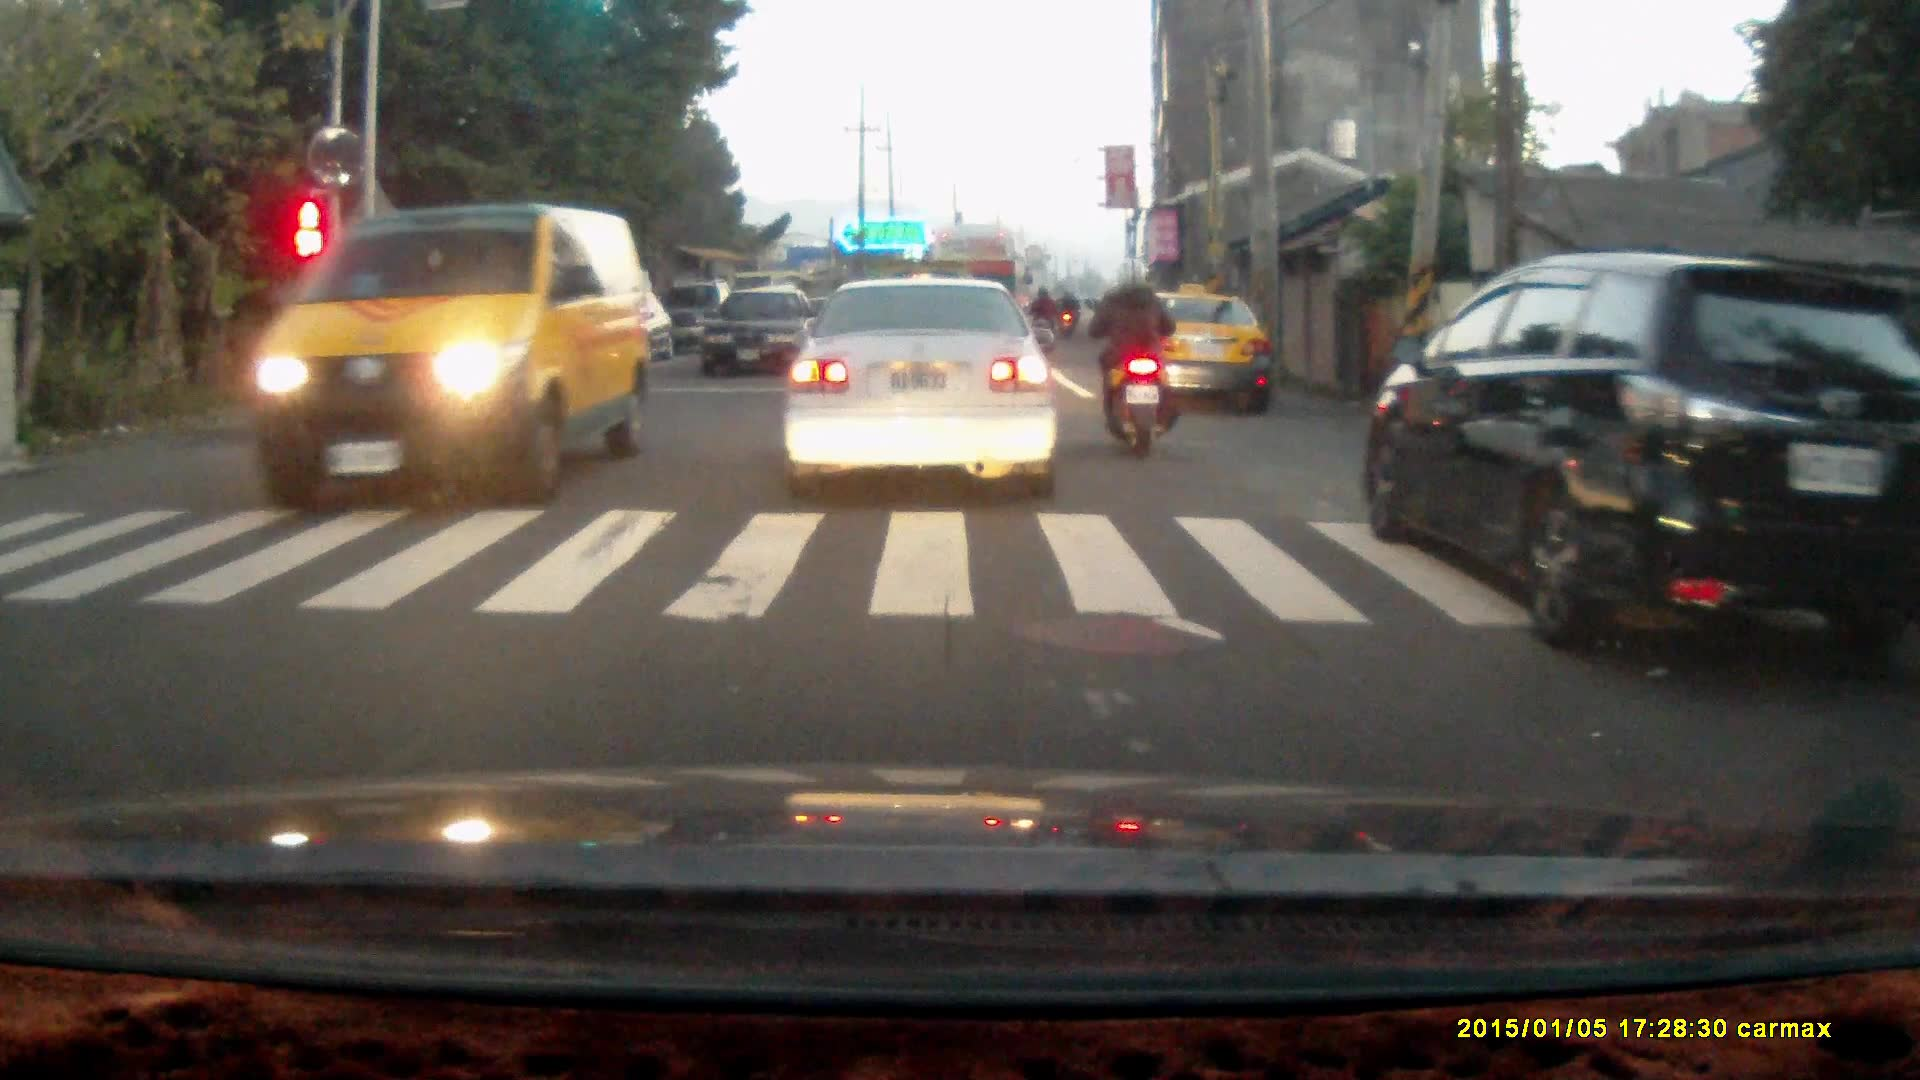rider: (1080, 256, 1174, 460)
vehicle: (1361, 248, 1920, 698), (253, 204, 654, 505), (782, 271, 1063, 500), (1114, 290, 1272, 419), (923, 224, 1022, 364), (702, 285, 821, 381)
